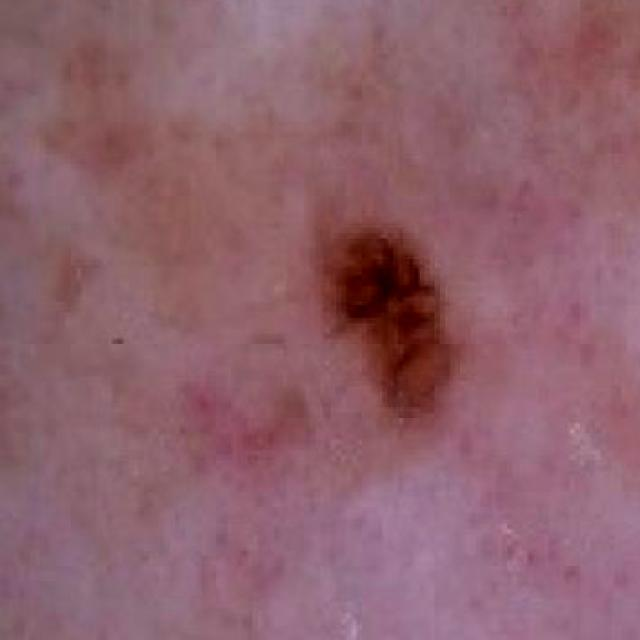AKIEC: (233, 100, 498, 545)
